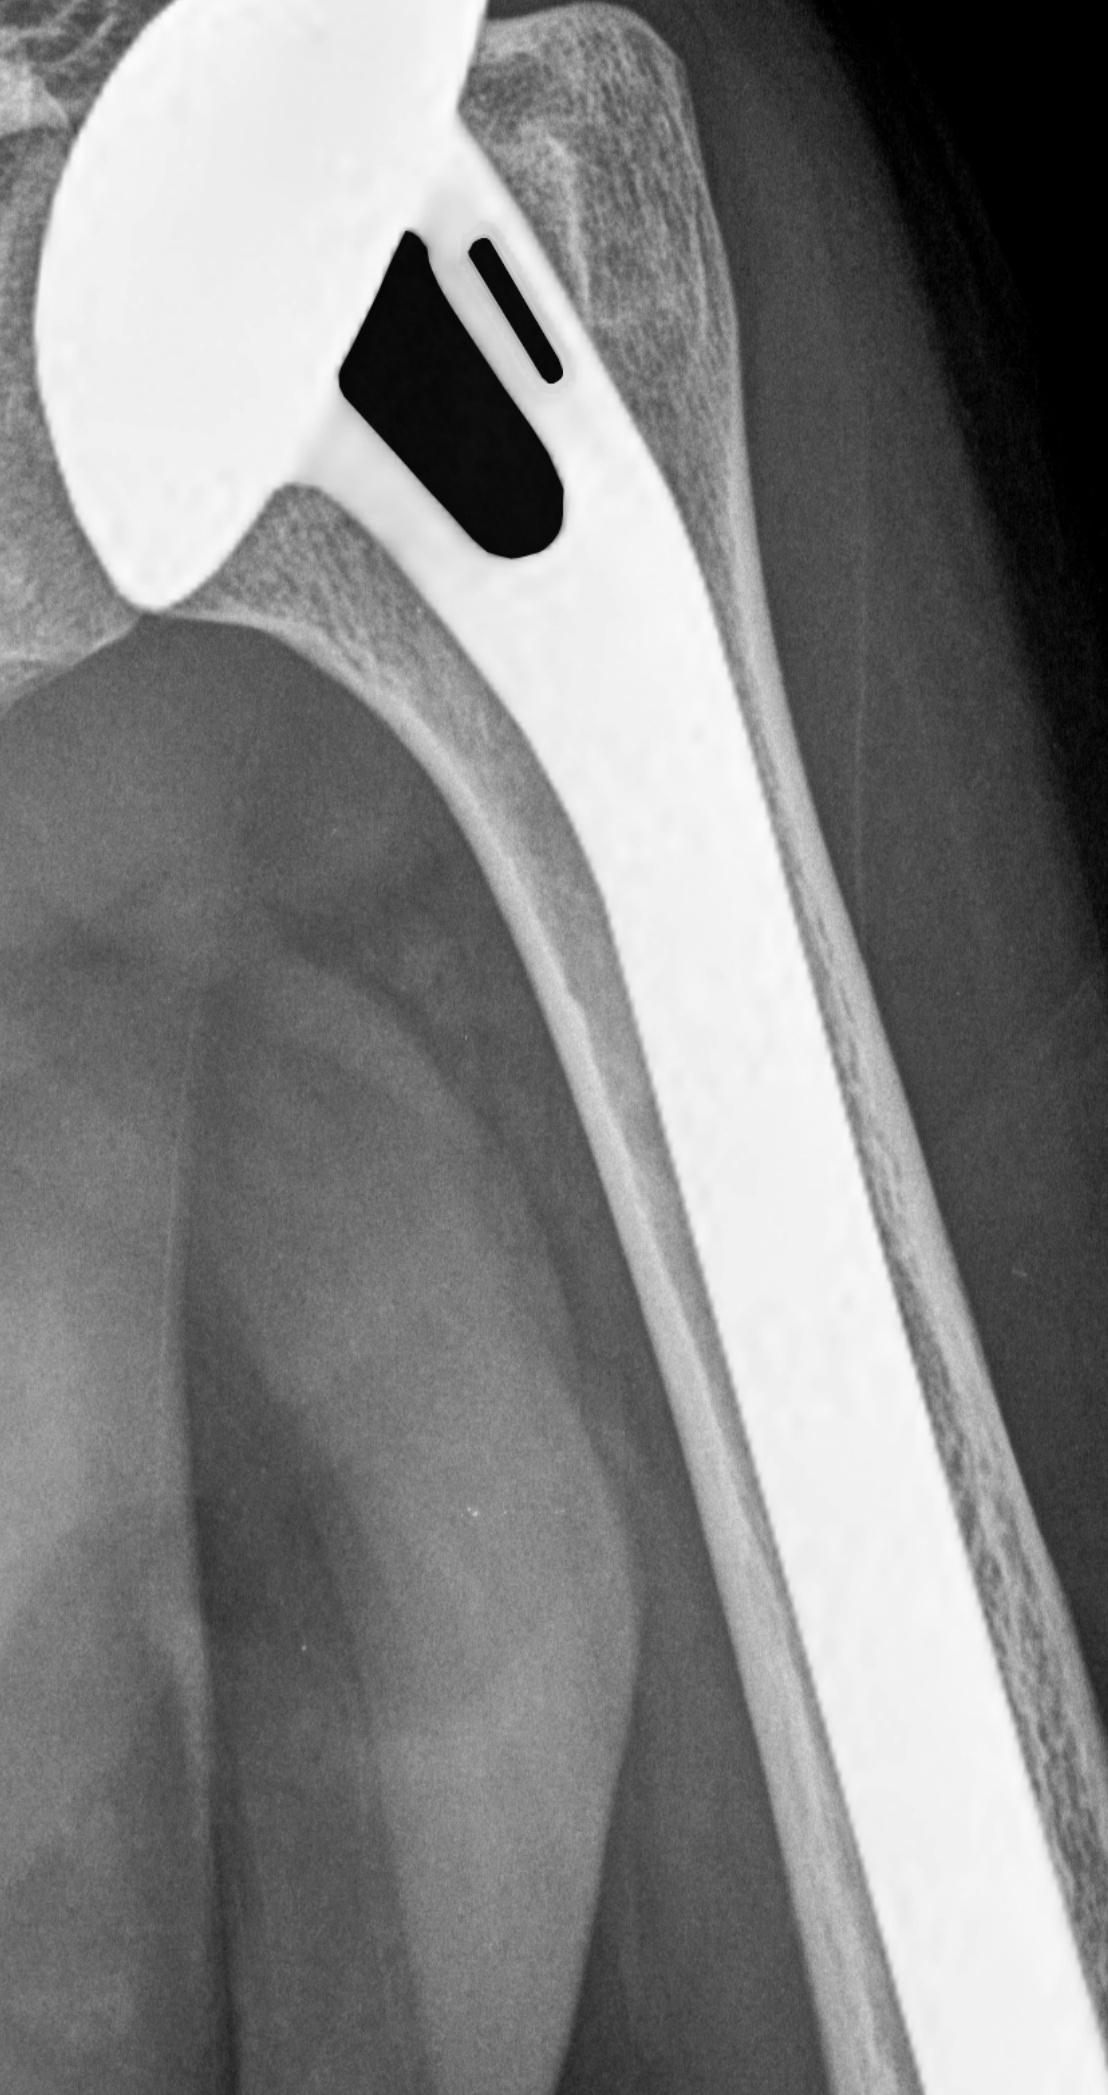Shoulder - AequalisFracture - Tornier: (25, 1, 654, 653)
